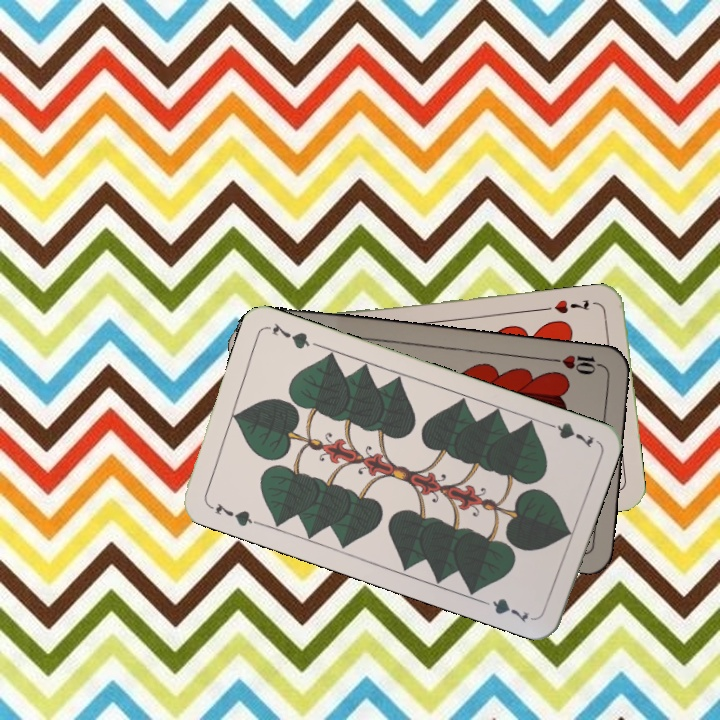G7: (540, 417, 596, 451), (204, 498, 261, 530)
H10: (548, 350, 608, 378)
H7: (551, 295, 592, 317)
